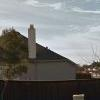Chimney: (21, 23, 47, 57)
